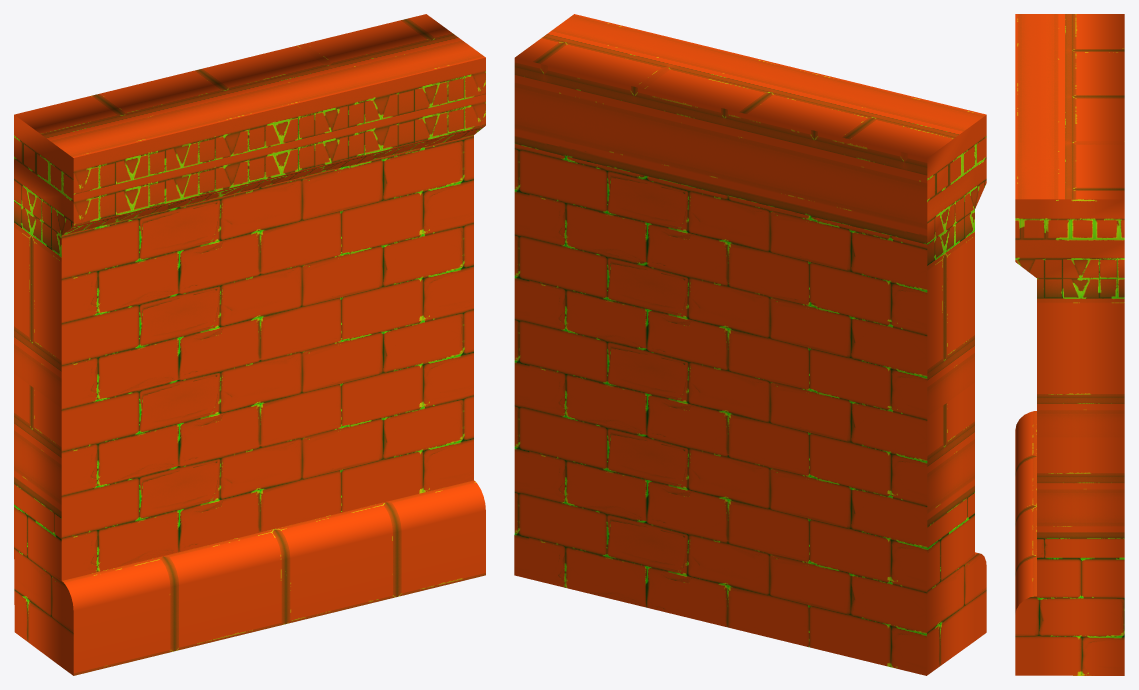
File: Small_Wall_ UV Complete.fbx
3 views of the same model, side by side, from view 1: azimuth 30°, elevation 25°; view 2: azimuth 150°, elevation 25°; view 3: azimuth 270°, elevation 25° (orthographic). The views are drawn at different scales.
Parts seen in each view (by area): view 1: Wall_0012; view 2: Wall_0012; view 3: Wall_0012.
Part boxes in pixels (<box>): Wall_0012: <box>14,14,485,675</box>; Wall_0012: <box>514,14,986,675</box>; Wall_0012: <box>1015,14,1124,675</box>.
Size of the model in its own units: 200 by 240 by 50.
